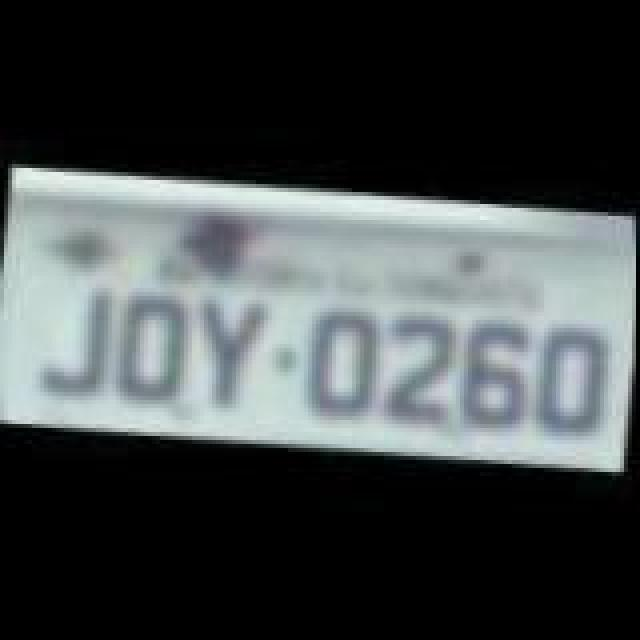2: (372, 308, 464, 432)
6: (446, 314, 542, 438)
J: (24, 274, 120, 398)
O: (296, 304, 388, 428), (526, 316, 614, 444), (108, 290, 196, 410)
Y: (184, 292, 276, 416)
